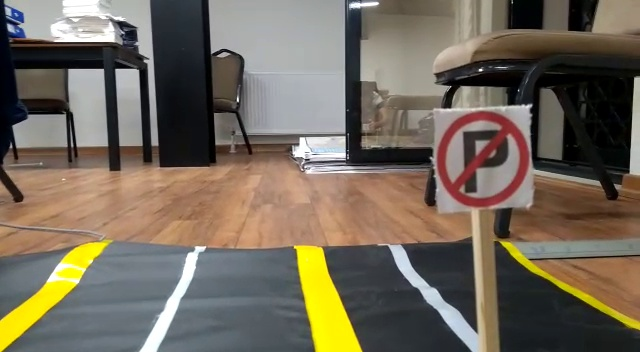park_yapilmaz: (434, 113, 537, 211)
